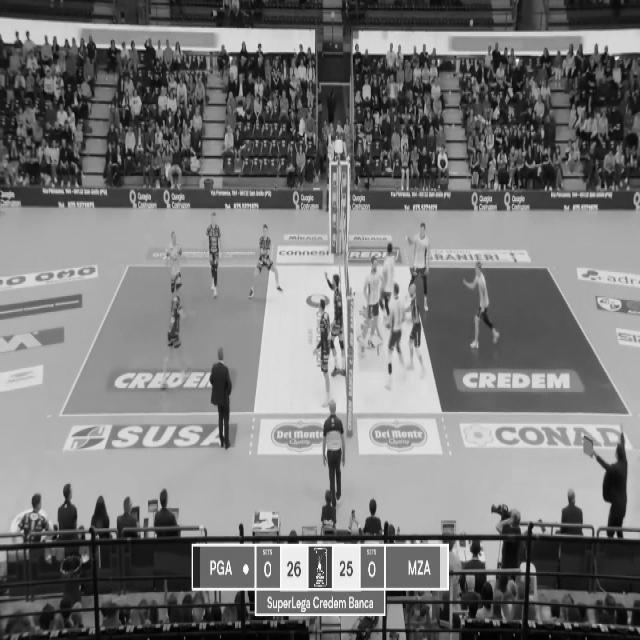volleyball court: (59, 259, 631, 417)
